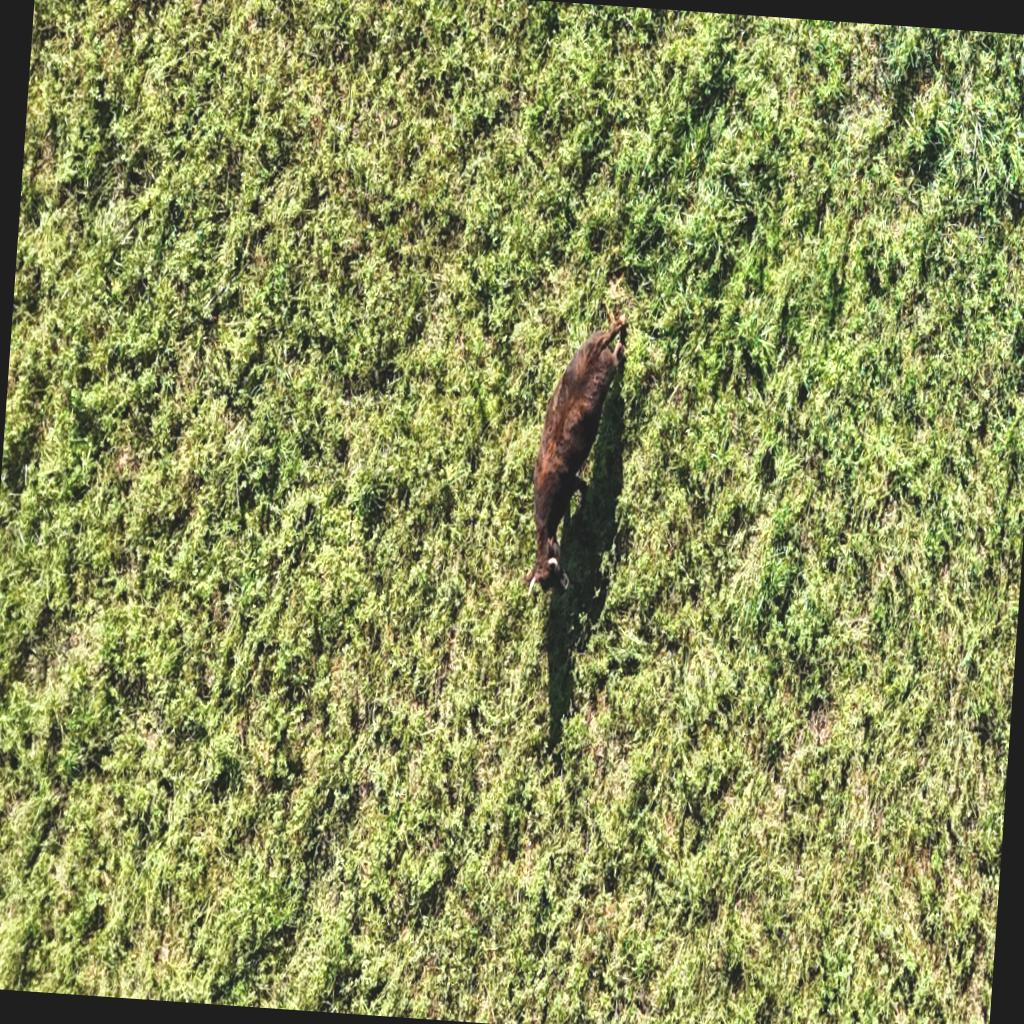cow: (511, 296, 637, 635)
